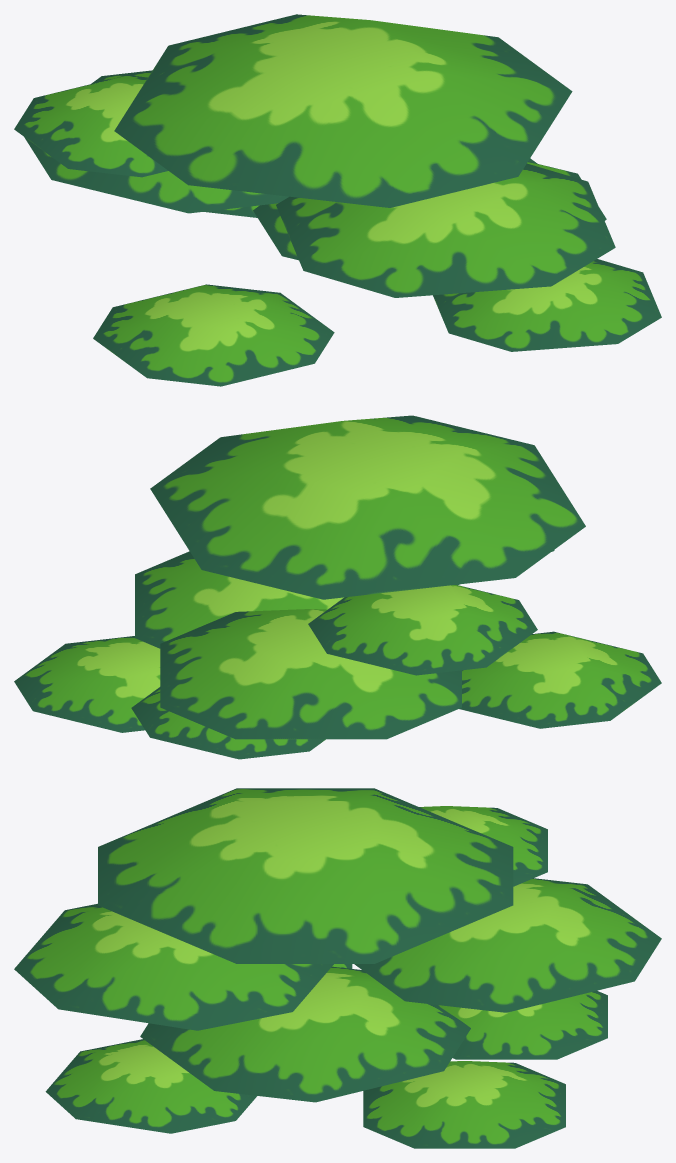
File: Buisson.FBX
3 renders of one model, top to bottom at view 1: azimuth 30°, elevation 25°; view 2: azimuth 150°, elevation 25°; view 3: azimuth 270°, elevation 25°, orthographic. The views are drawn at different scales.
Parts seen in each view (by area): view 1: Buisson; view 2: Buisson; view 3: Buisson.
Part boxes in pixels (x1,y1,x2,y2): Buisson: (14, 14, 661, 386); Buisson: (14, 415, 661, 759); Buisson: (14, 788, 661, 1148).
Size of the model in its own units: 0.8374 by 0.3317 by 0.9796.
